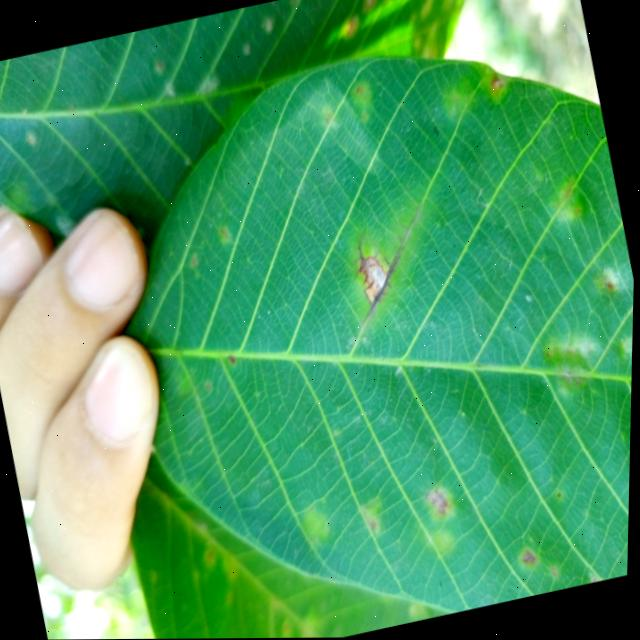Corynespora: (348, 230, 420, 323)
